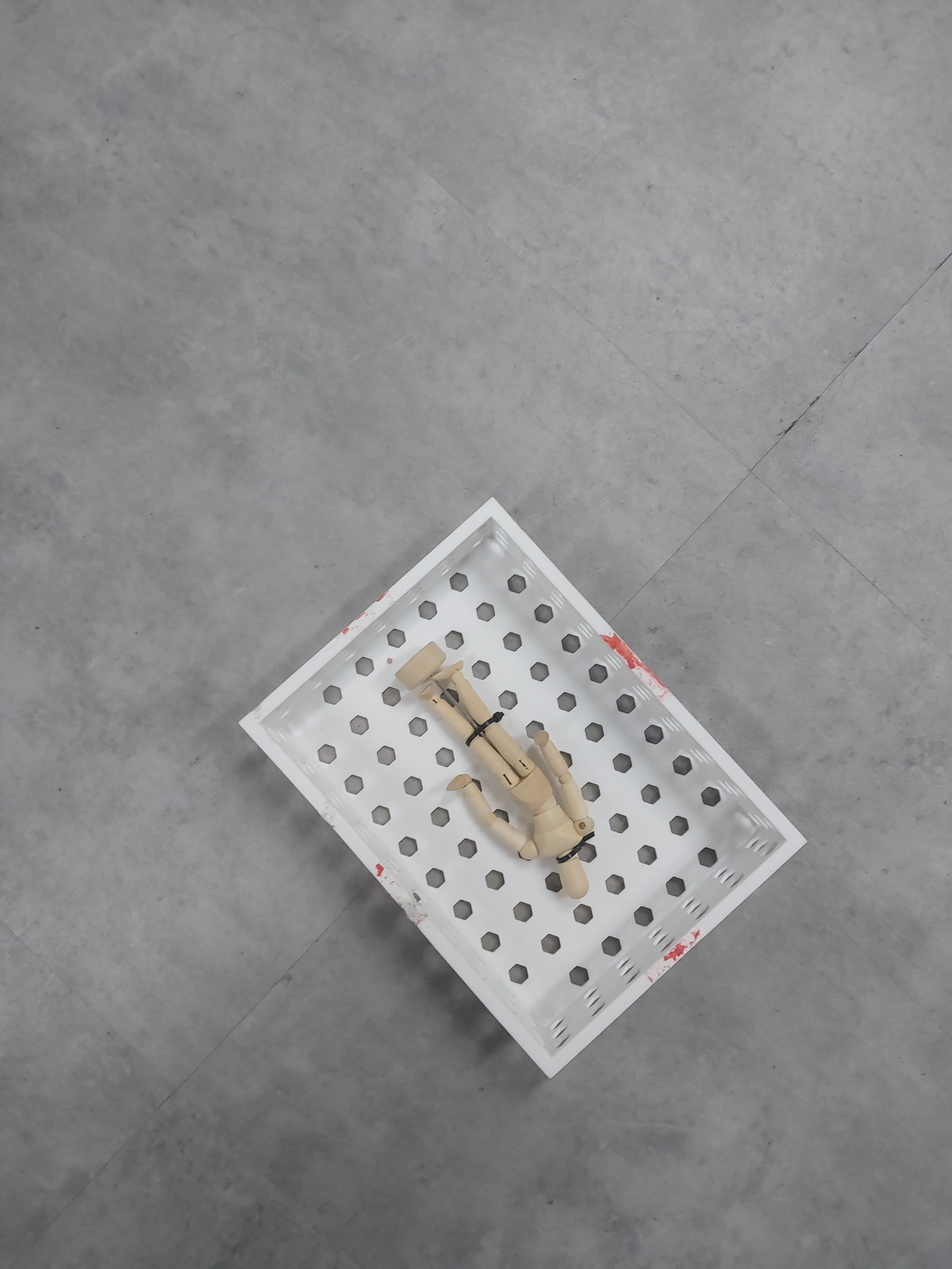basket: (232, 490, 809, 1088)
mannequin: (388, 639, 599, 908)
